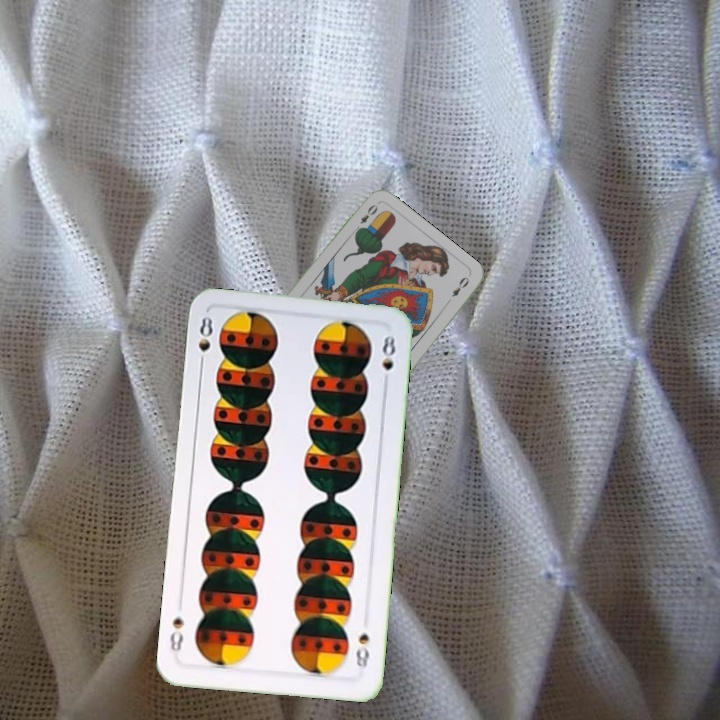EO: (350, 200, 381, 235)
S8: (194, 312, 215, 371), (351, 629, 372, 676)
